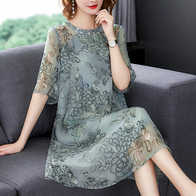C_dress: (34, 24, 163, 176)
